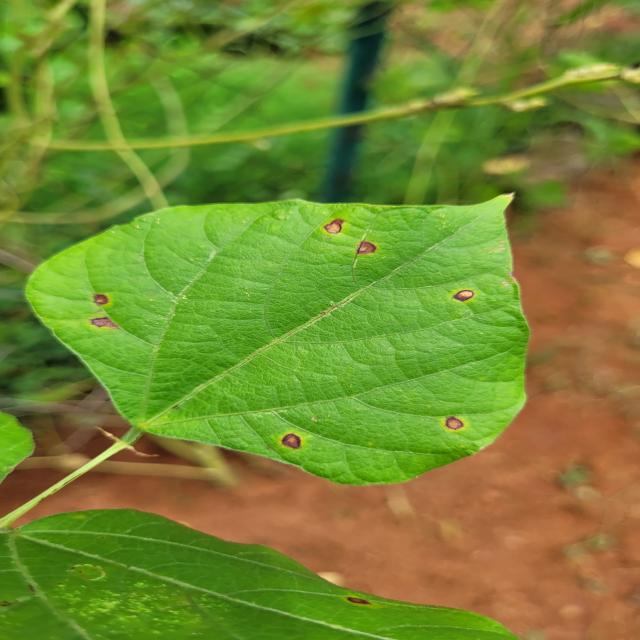Dolicos bean_cercospora leaf spot: (30, 192, 531, 486)
